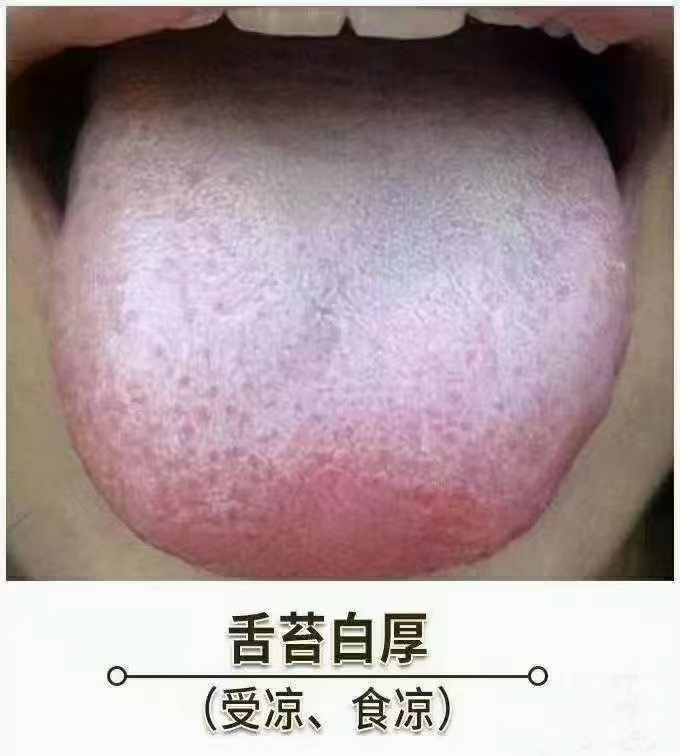baitaishe: (53, 63, 636, 578)
hongshe: (52, 63, 635, 578)
